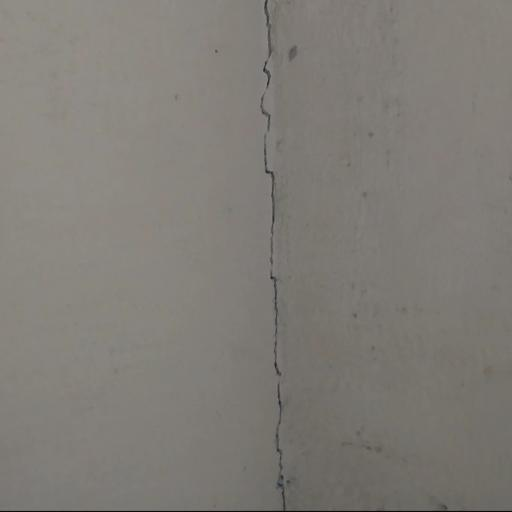major_crack: (247, 0, 298, 512)
